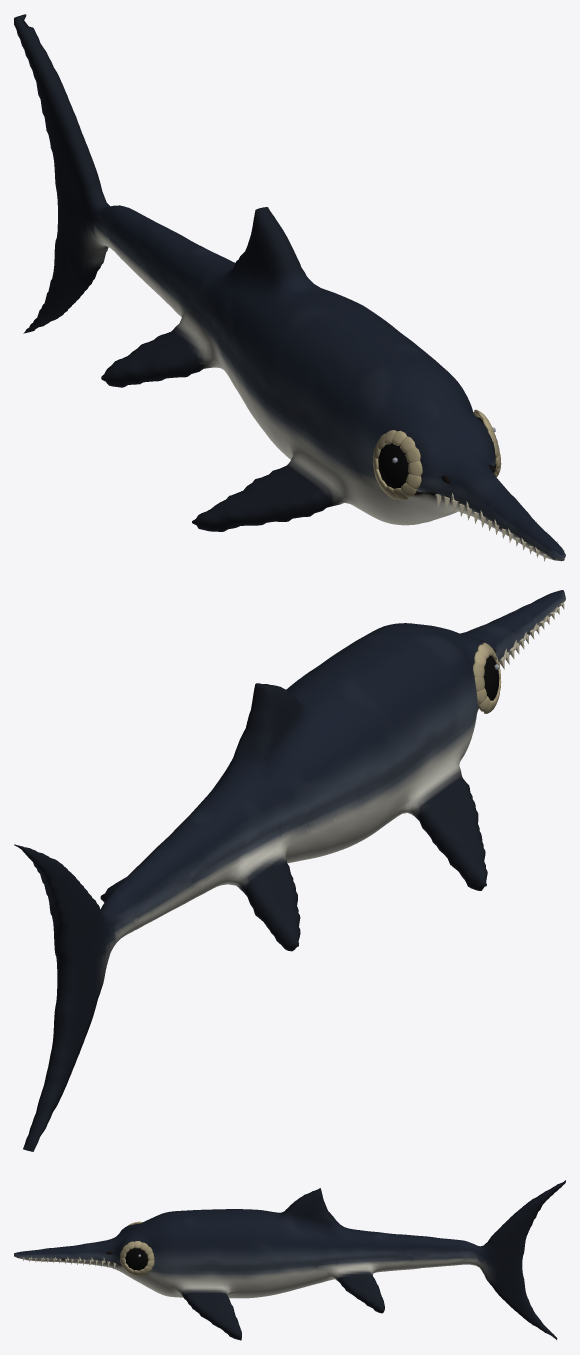
Rendered from Temnodontosaurus.fbx.
The picture shows the model from 3 angles, top to bottom: view 1: azimuth 30°, elevation 25°; view 2: azimuth 150°, elevation 25°; view 3: azimuth 270°, elevation 25°; orthographic projection. The views are drawn at different scales.
Visible parts, largest first — view 1: Temnodontosaurus; view 2: Temnodontosaurus; view 3: Temnodontosaurus.
Boxes of the visible parts, box(x1,y1,x2,y2) form: Temnodontosaurus: box(14, 14, 565, 561); Temnodontosaurus: box(14, 590, 565, 1151); Temnodontosaurus: box(14, 1180, 565, 1340).
Bounding box in the file's own units: 0.5823 × 0.5873 × 1.86.
